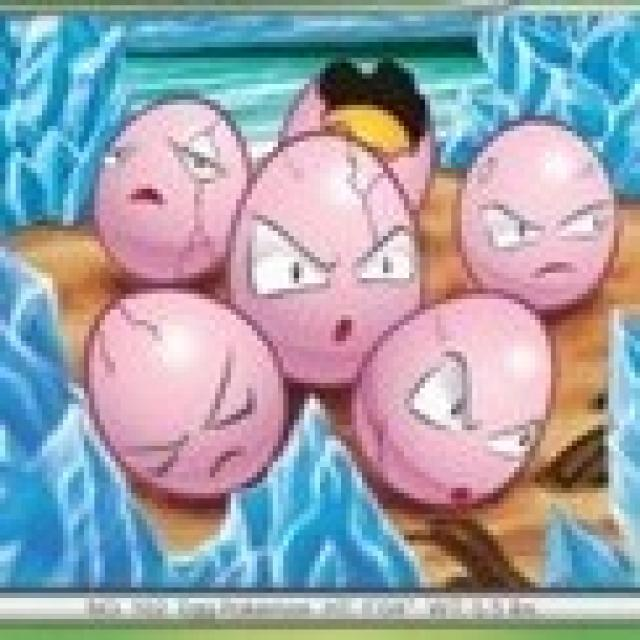Exeggcute: (92, 91, 614, 495)
